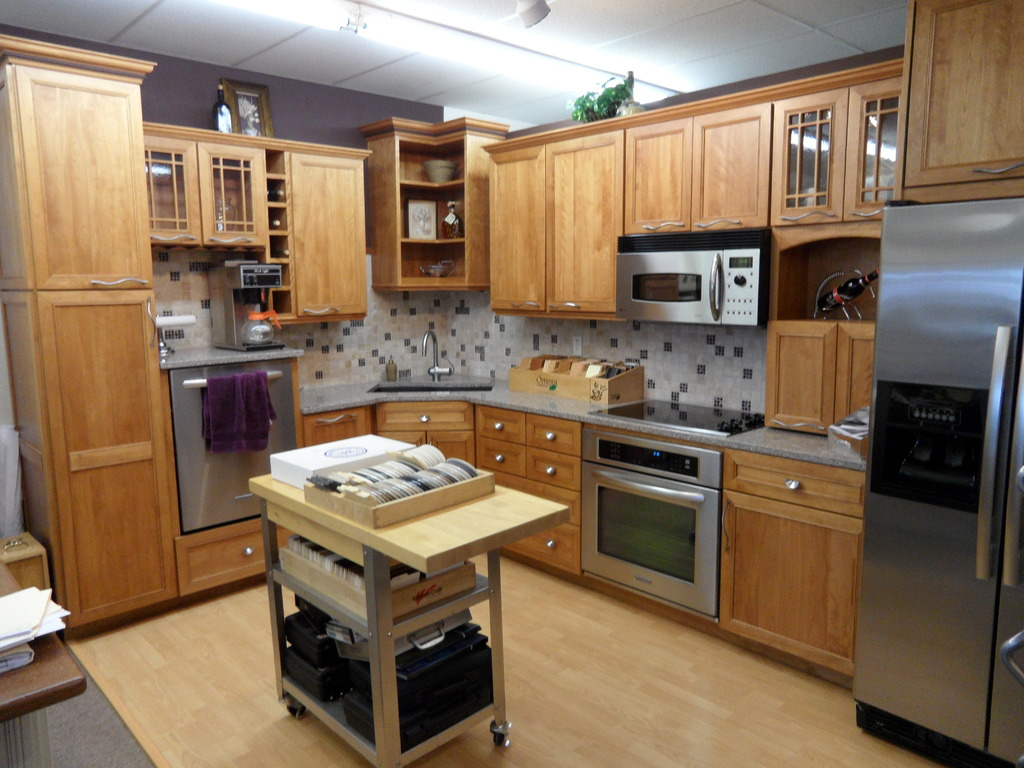cabinet door: (38, 303, 163, 613), (17, 69, 146, 301), (916, 25, 1024, 191), (287, 153, 365, 314), (550, 160, 617, 307), (772, 101, 841, 225), (491, 164, 542, 309), (694, 122, 765, 226), (770, 321, 826, 431), (846, 94, 893, 224), (631, 135, 690, 237), (745, 458, 850, 503), (835, 332, 875, 430), (178, 534, 265, 578), (382, 401, 470, 428), (524, 421, 578, 451), (478, 445, 521, 475), (527, 457, 578, 481), (483, 409, 519, 437)
handle: (974, 332, 1004, 588), (1006, 351, 1024, 589), (91, 273, 152, 292), (770, 415, 823, 436), (966, 161, 1024, 180), (781, 208, 842, 226), (694, 212, 747, 229), (843, 201, 879, 221), (641, 222, 690, 234), (305, 301, 338, 318), (545, 297, 579, 309), (510, 297, 539, 310), (238, 542, 254, 564), (493, 445, 507, 470), (545, 461, 561, 481), (785, 478, 801, 496), (542, 428, 557, 447), (489, 420, 506, 434), (419, 411, 430, 425)
refrigerator door: (887, 204, 993, 740), (1004, 338, 1024, 741)
